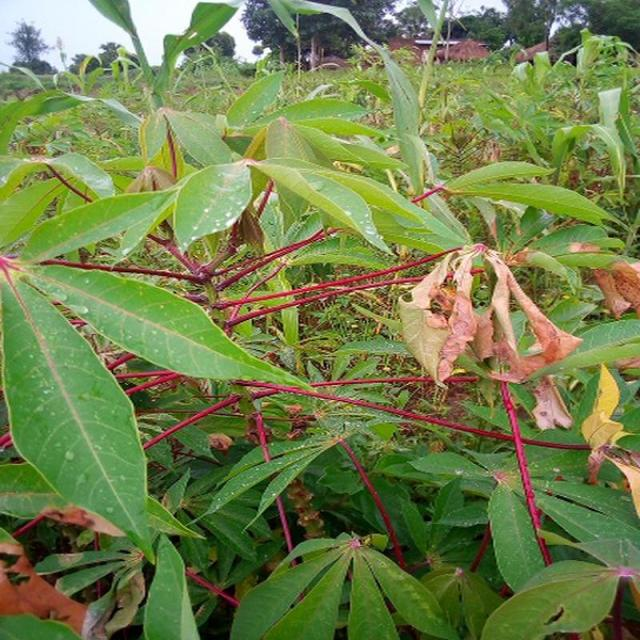cassava leaf: (1, 267, 155, 562)
